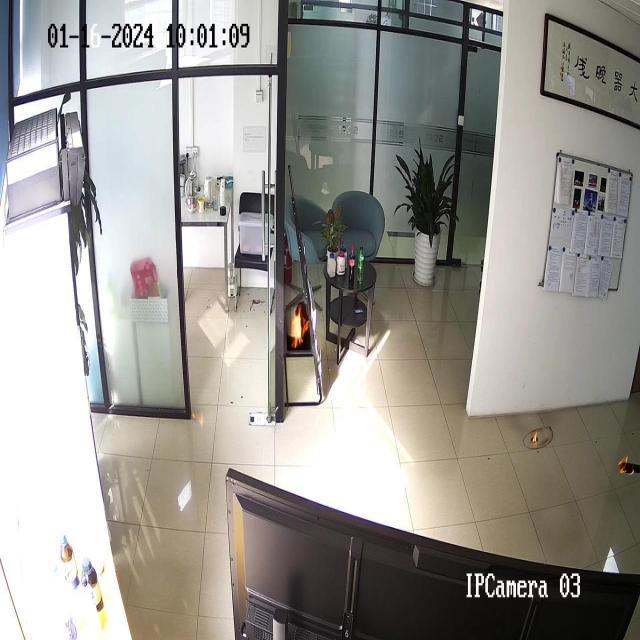smoke: (288, 310, 312, 350), (618, 452, 632, 480), (528, 429, 542, 449), (190, 412, 206, 427)
